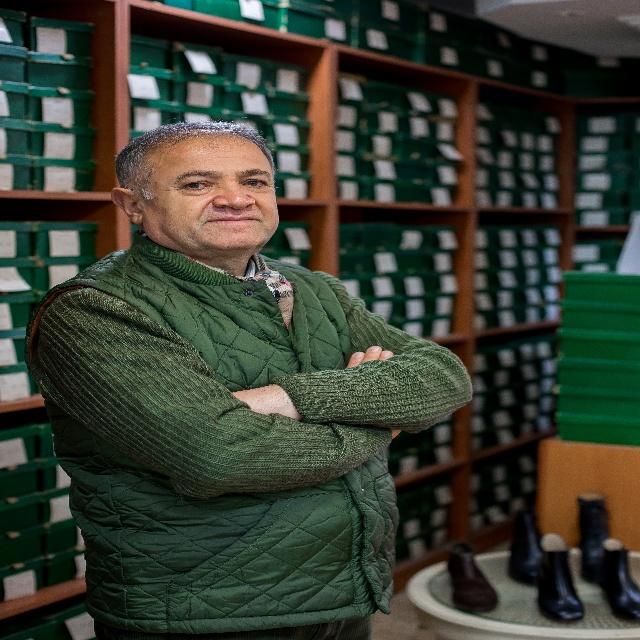Sin_guantes: (346, 343, 403, 440)
